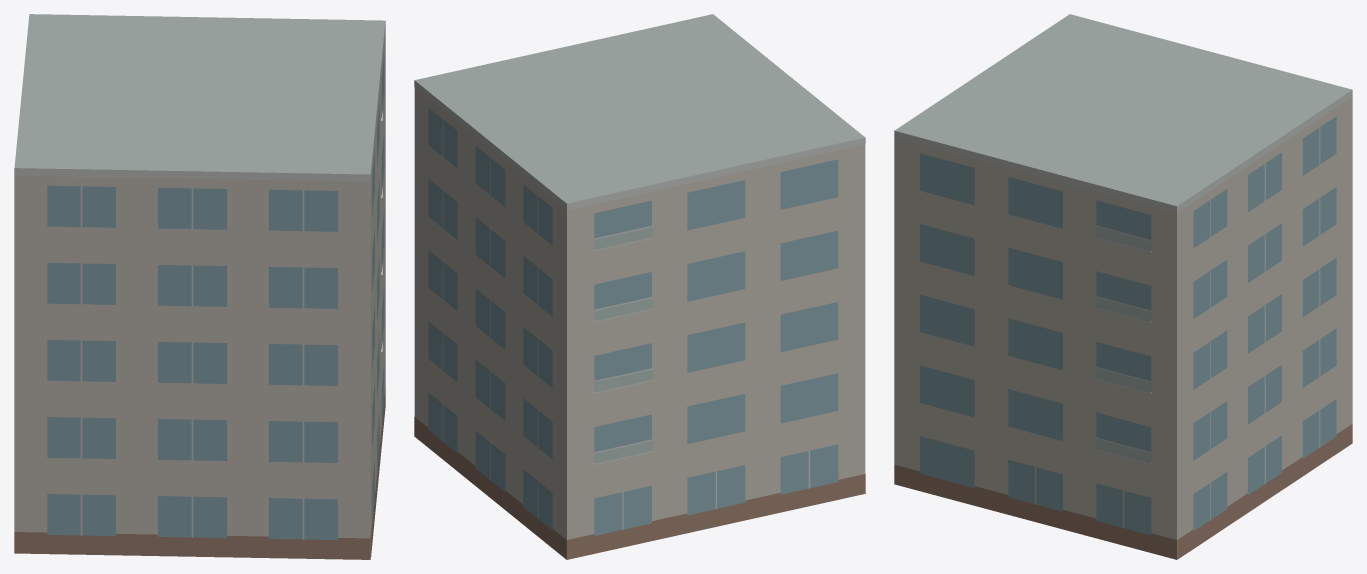
File: survey-upis-32664259.glb
3 views of the same model, side by side, from view 1: azimuth 30°, elevation 25°; view 2: azimuth 150°, elevation 25°; view 3: azimuth 270°, elevation 25° (orthographic). The views are drawn at different scales.
Visible parts, largest first — view 1: survey-upis-32664259.tmp; view 2: survey-upis-32664259.tmp; view 3: survey-upis-32664259.tmp.
Boxes of the visible parts, left/top/right/bottom form: survey-upis-32664259.tmp: left=14, top=14, right=385, bottom=559; survey-upis-32664259.tmp: left=414, top=14, right=865, bottom=559; survey-upis-32664259.tmp: left=894, top=14, right=1352, bottom=559.
Size of the model in its own units: 14.94 by 12.8 by 15.04.
